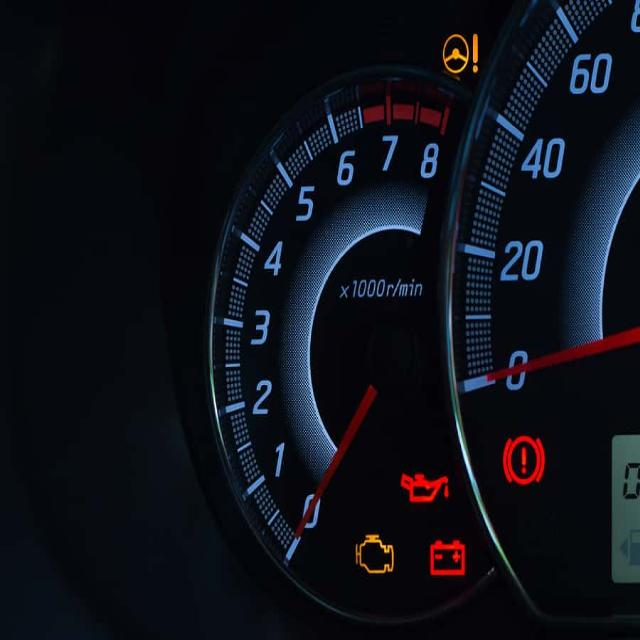kontrolka: (346, 523, 401, 584), (501, 427, 547, 491), (396, 463, 454, 511), (438, 22, 484, 80), (426, 534, 470, 582)
